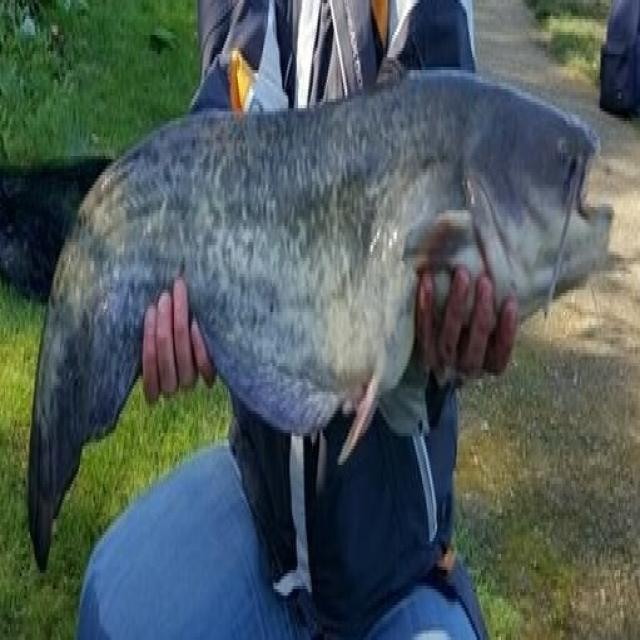Catfish: (16, 42, 619, 554)
